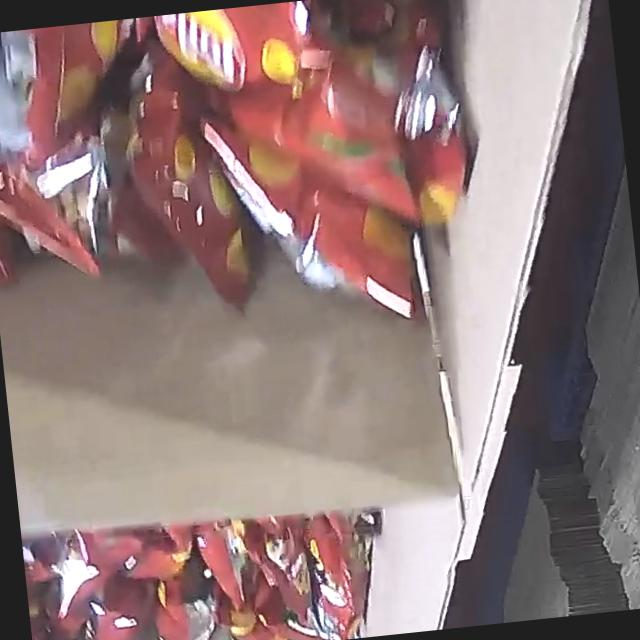masala: (0, 0, 526, 361), (20, 495, 392, 640)
